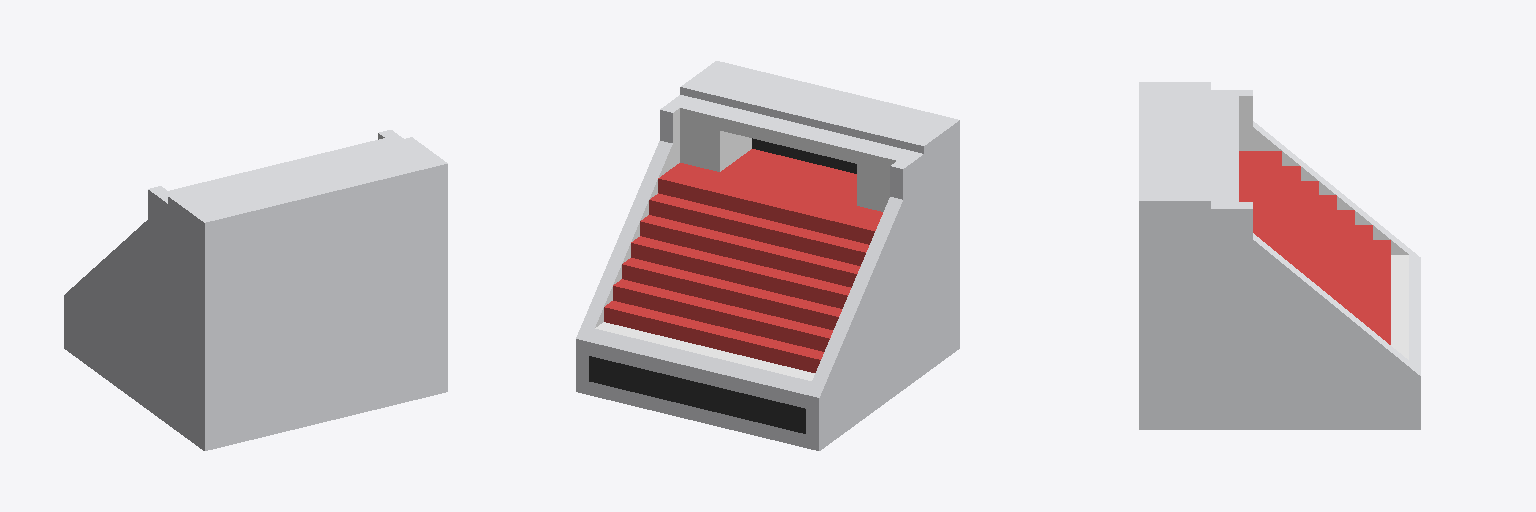
File: grandStand.obj
The picture shows the model from 3 angles: view 1: azimuth 30°, elevation 25°; view 2: azimuth 150°, elevation 25°; view 3: azimuth 270°, elevation 25°; orthographic projection.
Visible parts, largest first — view 1: grandStand; view 2: grandStand; view 3: grandStand.
Boxes of the visible parts, x1=… form: grandStand: x1=64, y1=130, x2=447, y2=450; grandStand: x1=576, y1=61, x2=959, y2=450; grandStand: x1=1139, y1=82, x2=1420, y2=429.
Size of the model in its own units: 10 by 8.96 by 10.